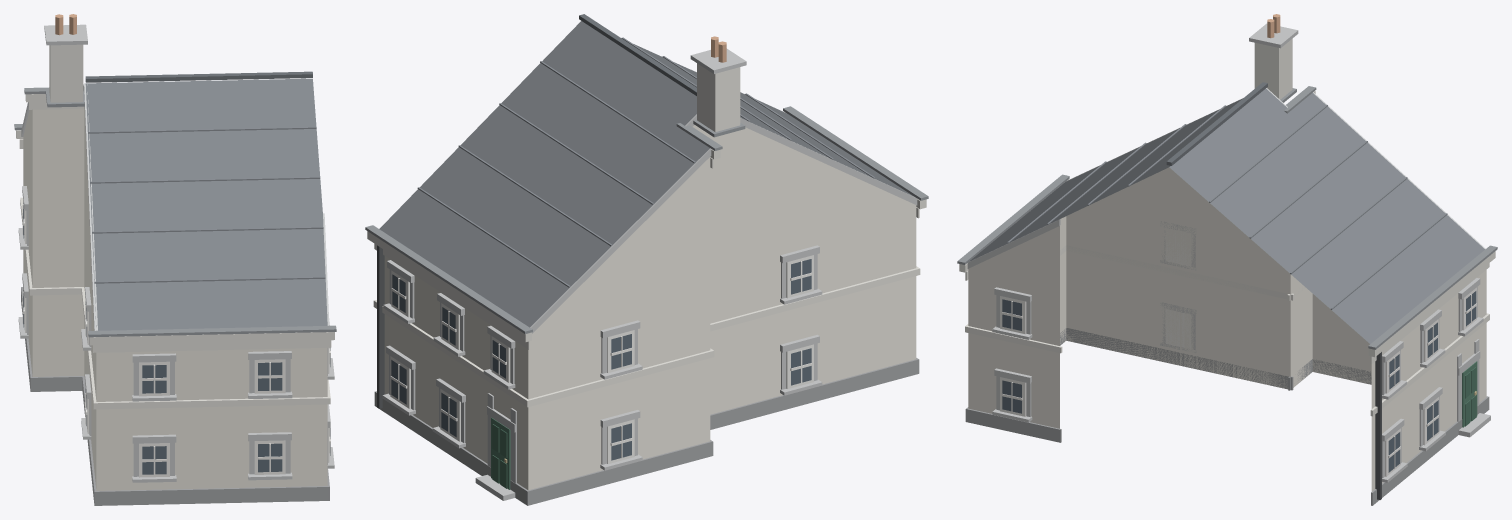
3 views of the same model, side by side, from view 1: azimuth 30°, elevation 25°; view 2: azimuth 150°, elevation 25°; view 3: azimuth 270°, elevation 25° (orthographic). The views are drawn at different scales.
Visible parts, largest first — view 1: slate, harl_cream, stone_band, string, plinth, frame, slate_lt, lead, chim_render, slate_dk, window_glass_010, window_glass_013 (+2 smaller); view 2: harl_cream, slate, stone_band, plinth, string, frame, lead, slate_lt, chim_render, pipe, slate_dk, door_green_p (+1 smaller); view 3: harl_cream, slate, stone_band, plinth, string, frame, lead, slate_lt, chim_render, pipe, slate_dk.
Part boxes in pixels (bbox=[...]): slate: bbox=[85, 78, 327, 330]; harl_cream: bbox=[23, 107, 327, 490]; stone_band: bbox=[18, 24, 334, 482]; string: bbox=[16, 94, 334, 409]; plinth: bbox=[21, 287, 329, 505]; frame: bbox=[22, 204, 330, 477]; slate_lt: bbox=[88, 127, 325, 283]; lead: bbox=[14, 87, 336, 337]; chim_render: bbox=[49, 44, 83, 102]; slate_dk: bbox=[85, 71, 312, 82]; window_glass_010: bbox=[142, 446, 166, 474]; window_glass_013: bbox=[258, 362, 282, 390]; harl_cream: bbox=[384, 125, 916, 490]; slate: bbox=[379, 21, 913, 327]; stone_band: bbox=[382, 48, 917, 500]; plinth: bbox=[374, 358, 919, 505]; string: bbox=[367, 112, 926, 407]; frame: bbox=[390, 255, 813, 463]; lead: bbox=[365, 106, 928, 334]; slate_lt: bbox=[417, 37, 875, 287]; chim_render: bbox=[697, 63, 740, 131]; pipe: bbox=[377, 245, 384, 408]; slate_dk: bbox=[579, 14, 696, 95]; door_green_p: bbox=[492, 424, 507, 488]; harl_cream: bbox=[968, 167, 1486, 491]; slate: bbox=[969, 88, 1484, 343]; stone_band: bbox=[967, 23, 1490, 482]; plinth: bbox=[965, 328, 1489, 505]; string: bbox=[959, 91, 1495, 416]; frame: bbox=[1000, 229, 1476, 476]; lead: bbox=[957, 86, 1497, 349]; slate_lt: bbox=[1007, 104, 1447, 309]; chim_render: bbox=[1254, 39, 1292, 99]; pipe: bbox=[1375, 352, 1381, 499]; slate_dk: bbox=[1166, 82, 1267, 165].
Size of the model in its own units: 12.81 by 12.4 by 16.89.
